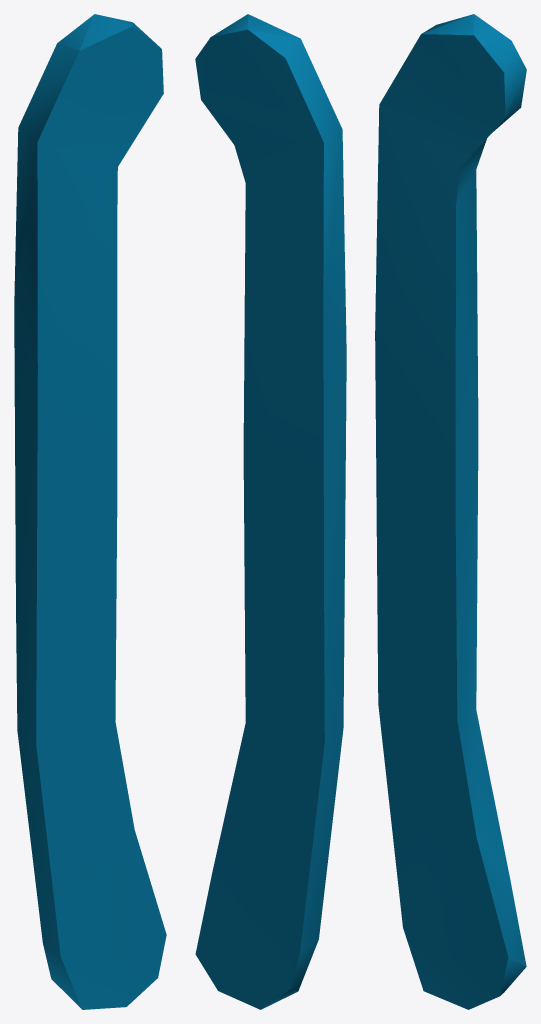
3 renders of one model, left to right at view 1: azimuth 30°, elevation 25°; view 2: azimuth 150°, elevation 25°; view 3: azimuth 330°, elevation 25°, orthographic.
Visible parts, largest first — view 1: mh00400-j00_lk2_2; view 2: mh00400-j00_lk2_2; view 3: mh00400-j00_lk2_2.
Part boxes in pixels (bbox=[...]): mh00400-j00_lk2_2: bbox=[14, 14, 166, 1009]; mh00400-j00_lk2_2: bbox=[195, 14, 346, 1009]; mh00400-j00_lk2_2: bbox=[375, 14, 526, 1009].
Bounding box in the file's own units: 0.1654 × 0.0526 × 1.18.
